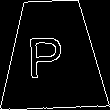P_N: (33, 29, 73, 80)
